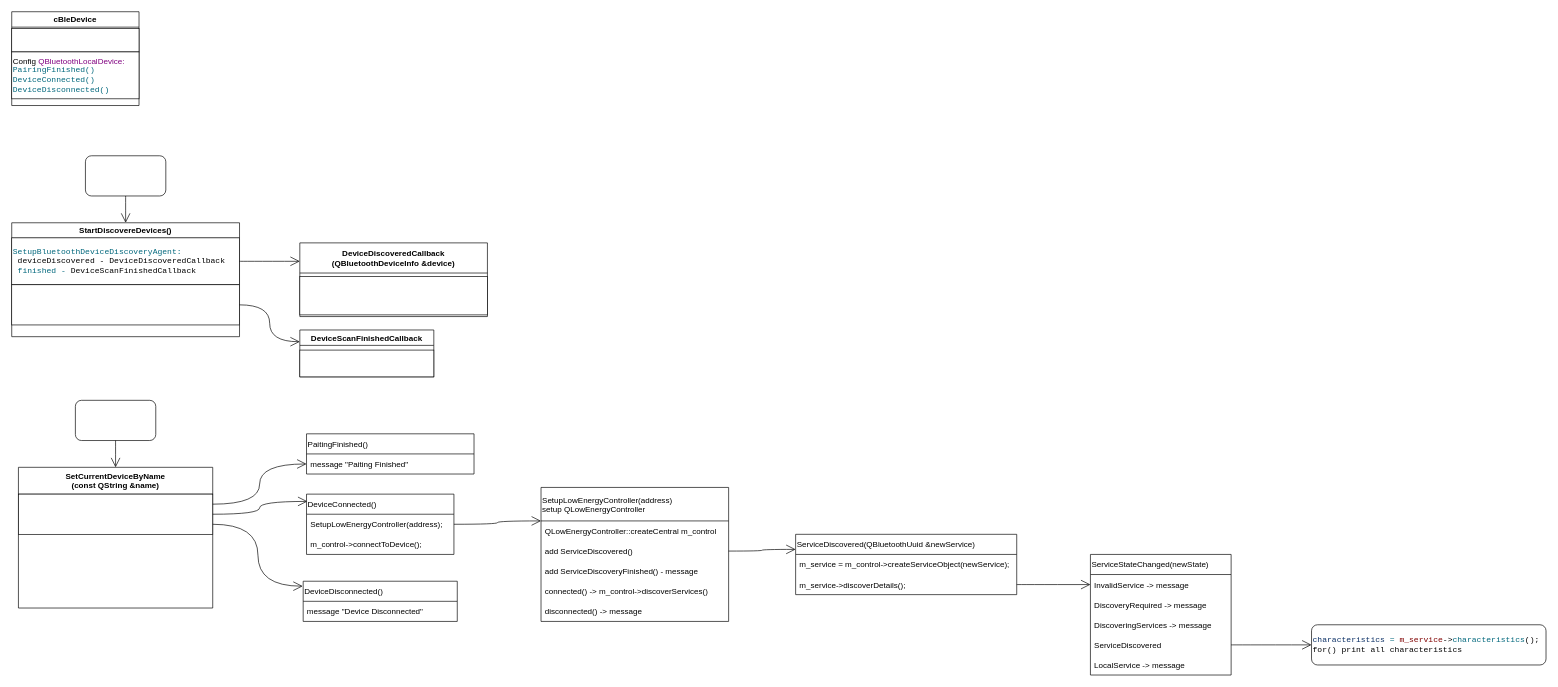
Some shapes in this 1558 by 687 pixel diagram are drawn without their labels. The centre of each missing label's shape, as x and y in pixels:
Add devices in devices list: (393,295)
Command start pairing: (115,420)
Command to start devices discover: (125,175)
Create QBluetoothLocalDevice: (75,40)
Discovery start( LowEnergyMethod): (125,304)
message "Scan Finished": (366,363)
QBluetoothLocalDevice-> requestPairing( address, .. ): (115,513)
